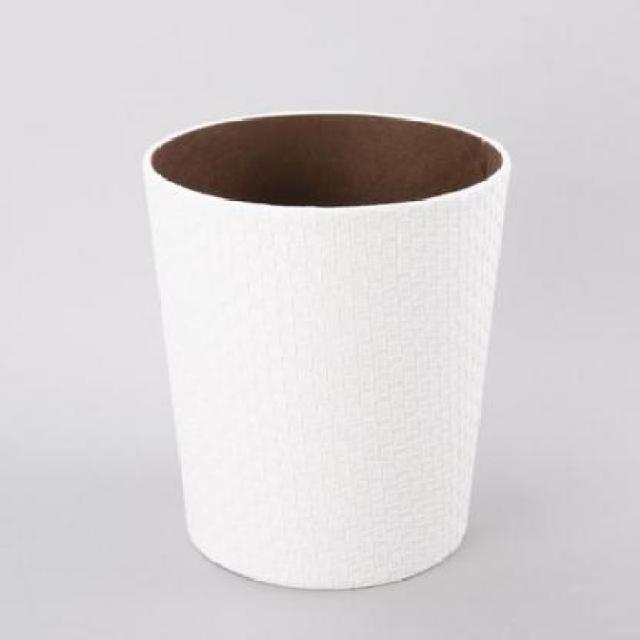dustbin: (136, 105, 514, 596)
